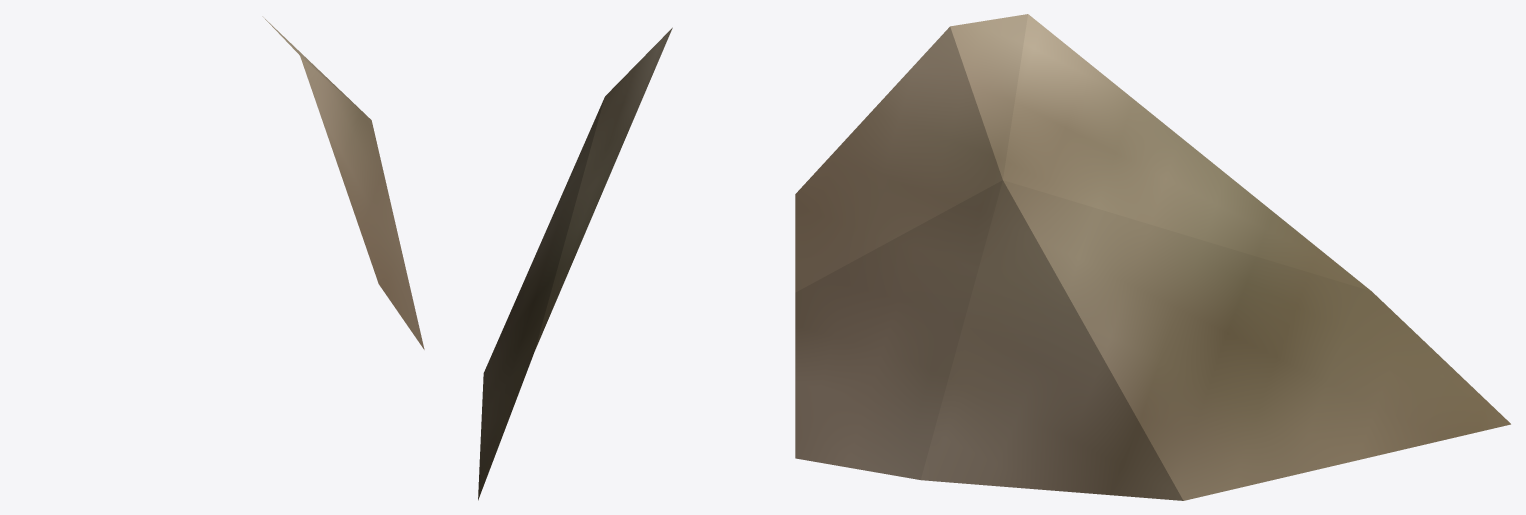
3 renders of one model, left to right at view 1: azimuth 30°, elevation 25°; view 2: azimuth 150°, elevation 25°; view 3: azimuth 270°, elevation 25°, orthographic. The views are drawn at different scales.
Size of the model in its own units: 0.0354 by 0.0884 by 0.1398.
Materials: 1 (1 with a texture image).
